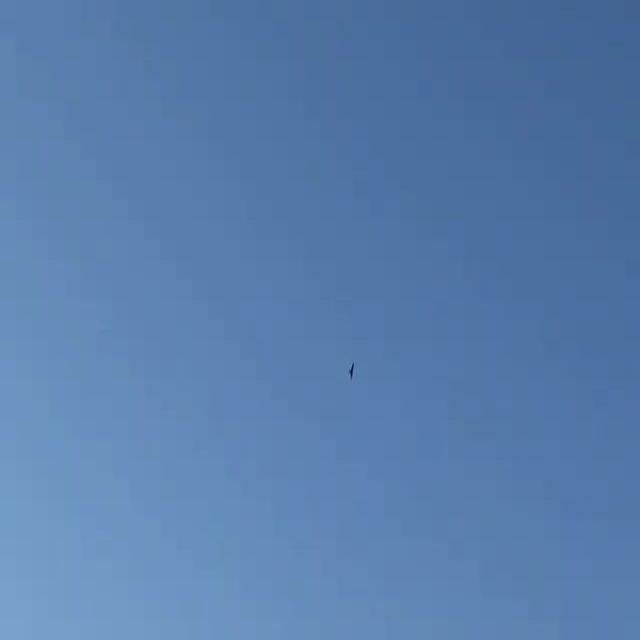bird: (344, 360, 362, 378)
